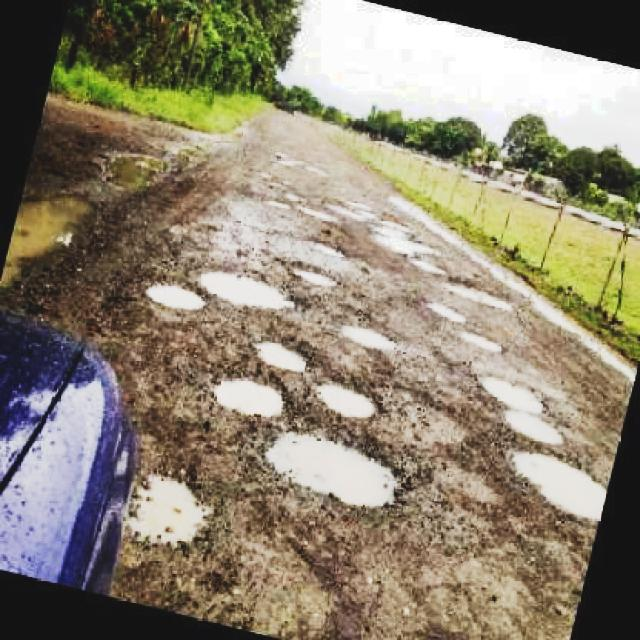pothole: (270, 420, 408, 515), (510, 448, 612, 528), (126, 468, 209, 544), (202, 264, 302, 318), (217, 369, 289, 422), (477, 369, 548, 414), (315, 377, 380, 423), (369, 223, 442, 260), (451, 272, 518, 312), (503, 406, 569, 446), (251, 334, 314, 375), (144, 278, 210, 314), (344, 317, 402, 357), (291, 260, 338, 295), (460, 326, 506, 360), (412, 256, 450, 278), (430, 299, 464, 323)
